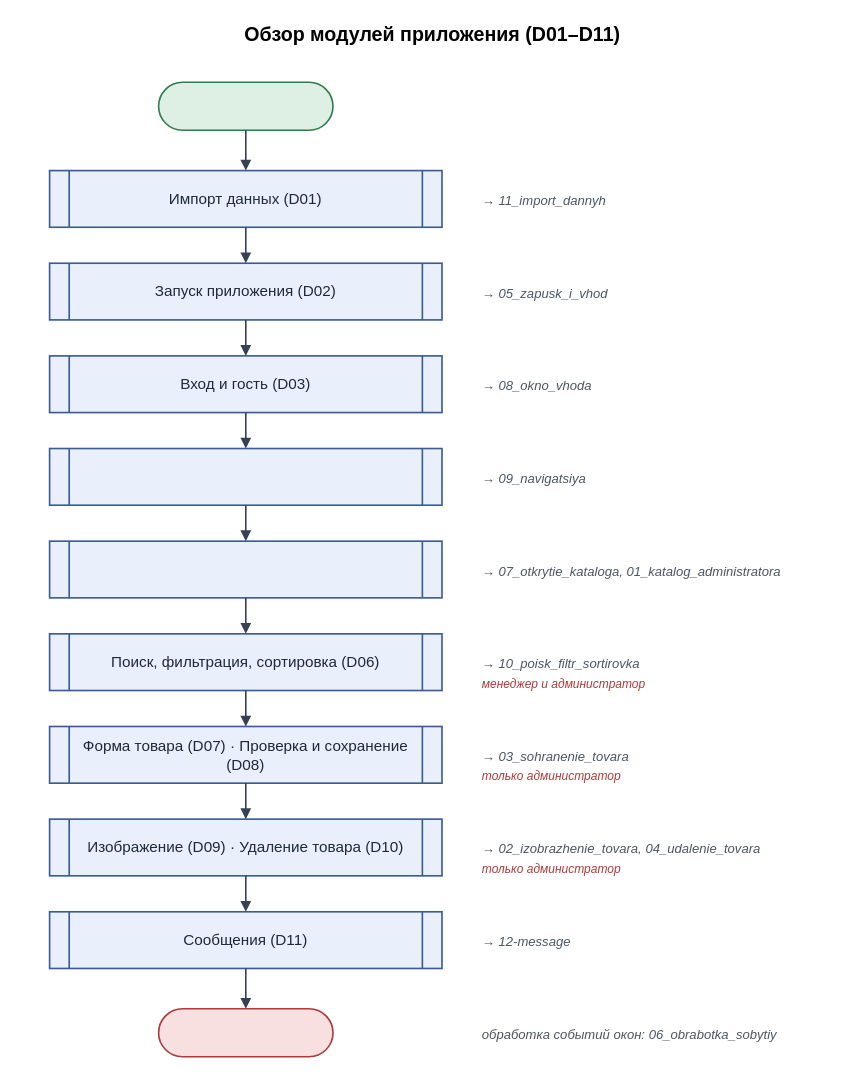
This 864x1076 diagram has some shape labels left out. Here are the shapes that lost their labels. From the top down, the box of each, then its label:
(157, 81, 333, 131): Начало
(48, 447, 442, 506): Навигация (D04)
(48, 540, 442, 598): Каталог товаров (D05)
(157, 1007, 333, 1057): Конец
